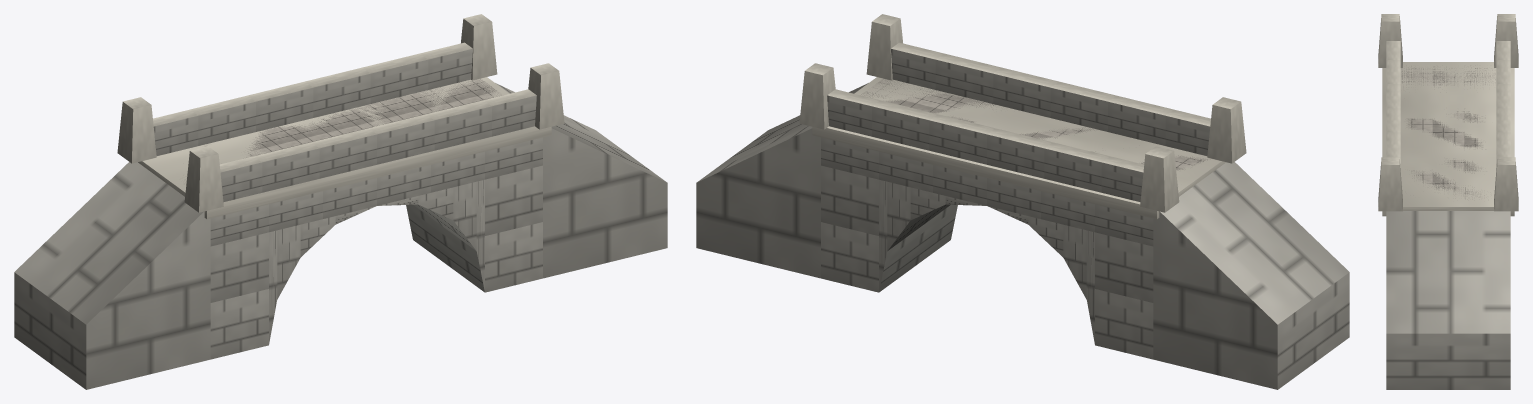
Rendered from walk_bridge_stone_01.glb.
3 views of the same model, side by side, from view 1: azimuth 30°, elevation 25°; view 2: azimuth 150°, elevation 25°; view 3: azimuth 270°, elevation 25° (orthographic). The views are drawn at different scales.
Visible parts, largest first — view 1: walk_bridge_stone_01; view 2: walk_bridge_stone_01; view 3: walk_bridge_stone_01.
Boxes of the visible parts, x1,y1,x2,y2 form: walk_bridge_stone_01: (14, 14, 667, 389); walk_bridge_stone_01: (696, 14, 1349, 389); walk_bridge_stone_01: (1378, 14, 1518, 389).
Bounding box in the file's own units: 14 × 4.75 × 3.4.
Materials: 1 (1 with a texture image).
